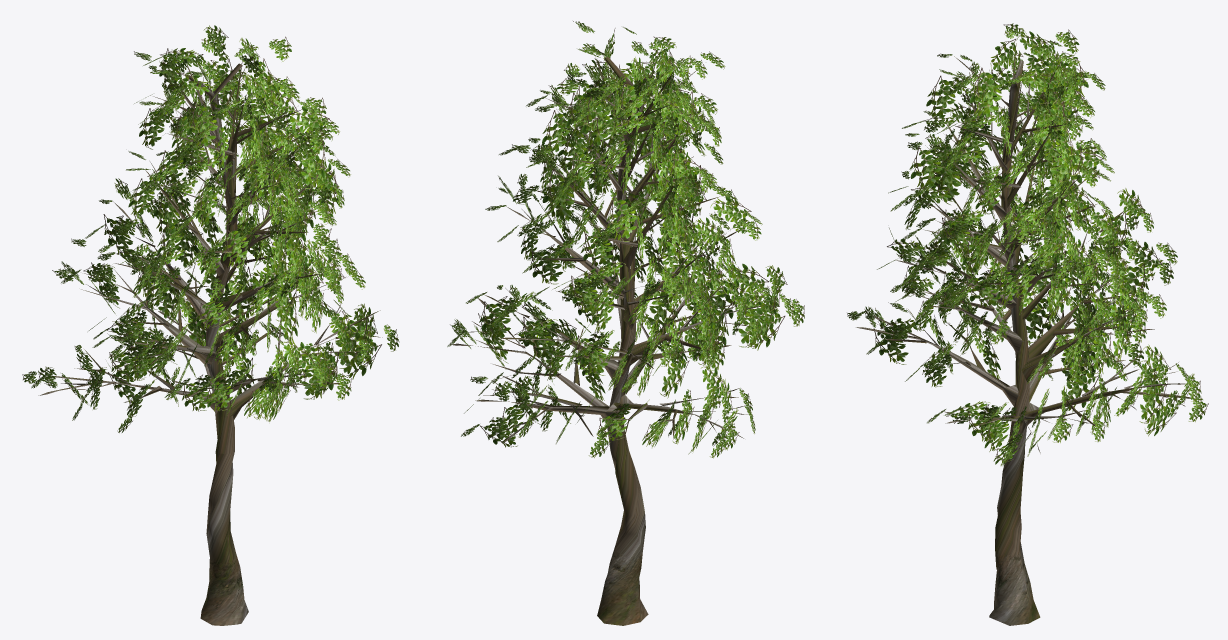
The model's file is tree.glb.
3 views of the same model, side by side, from view 1: azimuth 30°, elevation 25°; view 2: azimuth 150°, elevation 25°; view 3: azimuth 270°, elevation 25° (orthographic).
Visible parts, largest first — view 1: leaves, bark; view 2: leaves, bark; view 3: leaves, bark.
Boxes of the visible parts, x1=… form: leaves: x1=22, y1=25, x2=399, y2=432; bark: x1=38, y1=59, x2=382, y2=625; leaves: x1=447, y1=21, x2=804, y2=458; bark: x1=451, y1=53, x2=780, y2=625; leaves: x1=847, y1=23, x2=1208, y2=465; bark: x1=856, y1=40, x2=1194, y2=625.
Size of the model in its own units: 9.44 by 15.55 by 9.1.
2 materials, 2 textured.
